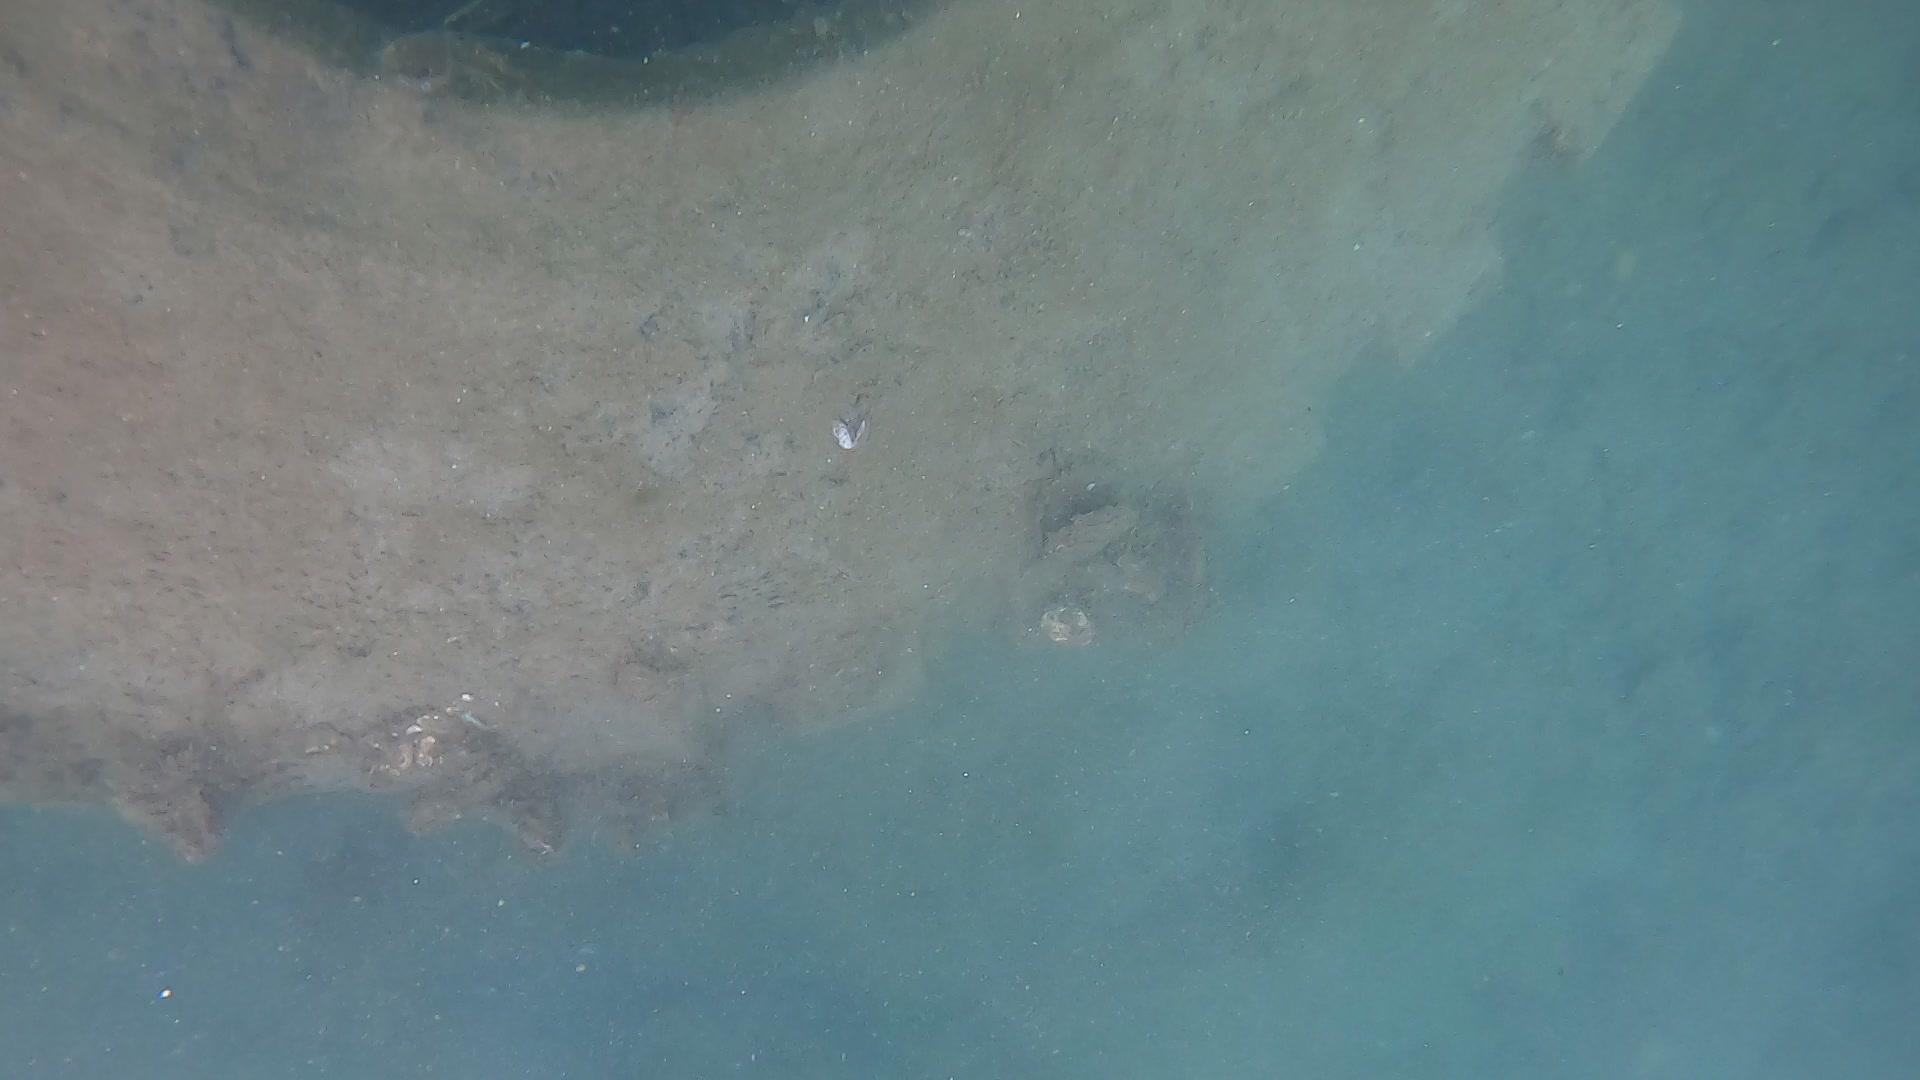tire: (0, 0, 1685, 794)
